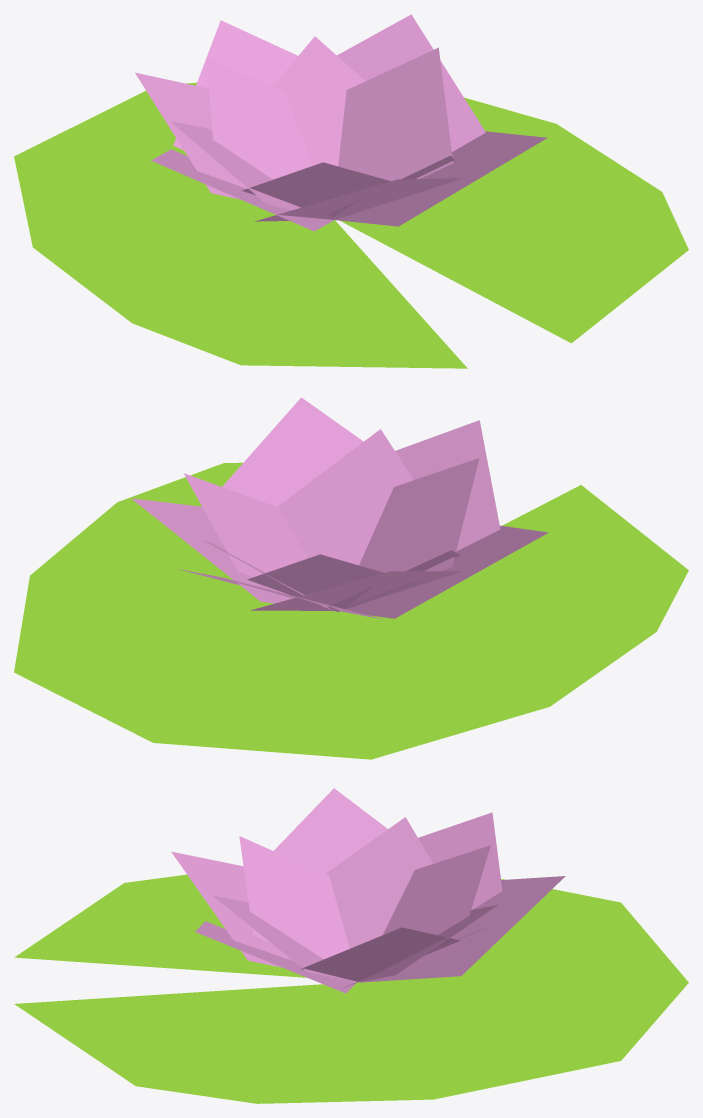
File: LilyPad3_Mod.fbx
3 views of the same model, one above another, from view 1: azimuth 30°, elevation 25°; view 2: azimuth 150°, elevation 25°; view 3: azimuth 270°, elevation 25° (orthographic). The views are drawn at different scales.
Visible parts, largest first — view 1: Plane.002; view 2: Plane.002; view 3: Plane.002.
Boxes of the visible parts, box(x1,y1,x2,y2) form: Plane.002: box(14, 14, 688, 368); Plane.002: box(14, 397, 688, 759); Plane.002: box(14, 788, 688, 1103).
Bounding box in the file's own units: 184 × 41 × 220.
